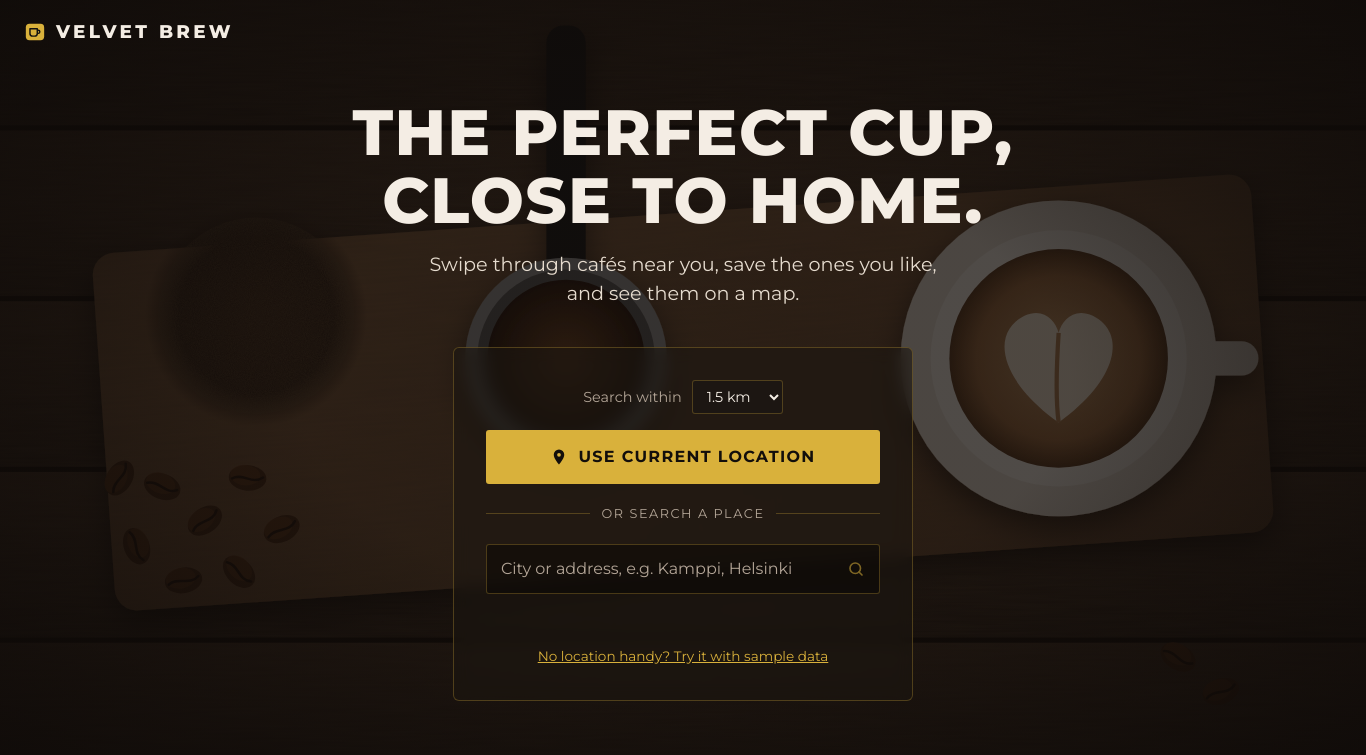
Test: App › uses the backup search and says so when the café server is down
Click the button "Use current location": (683, 457) [486,430,880,484]
(page scrolled)
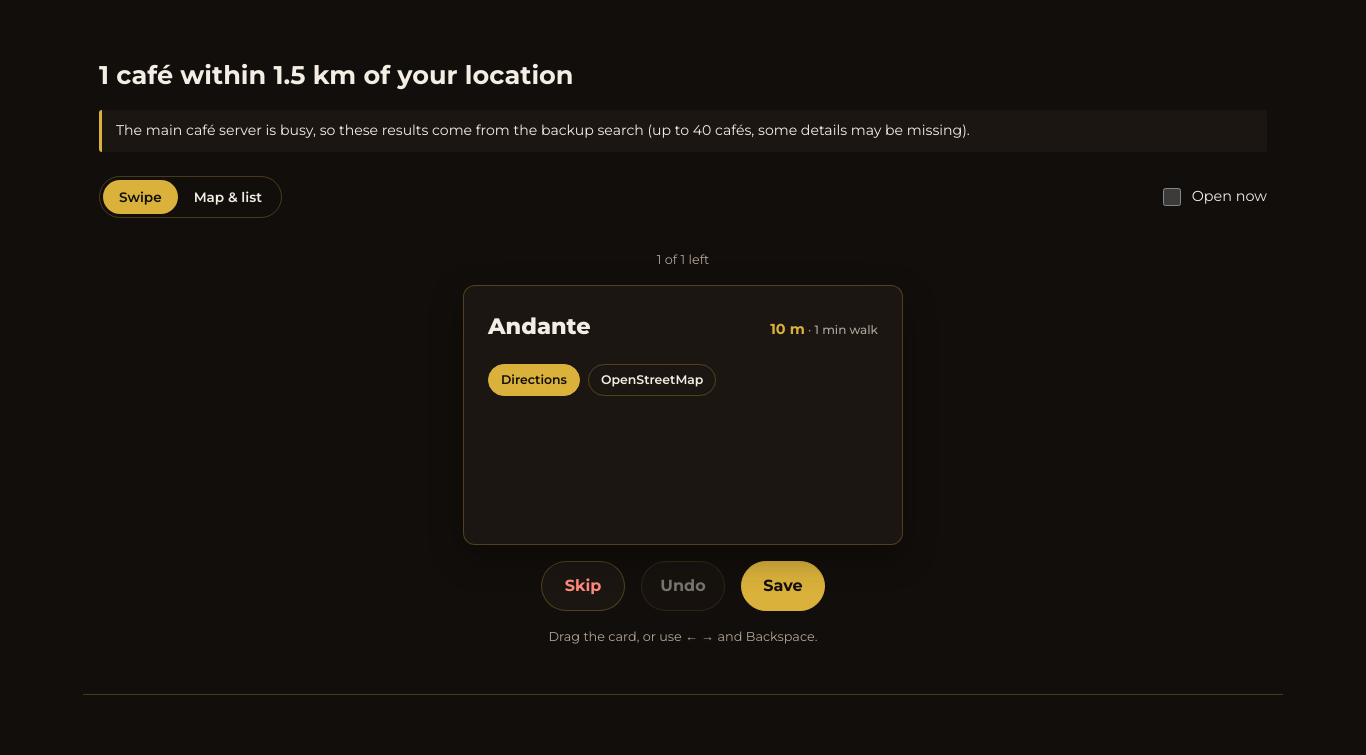
Now the heading "1 café within 1.5 km of your location" is shown, box [99,59,574,90]
Now the message shows "backup search", box [116,121,689,139]
